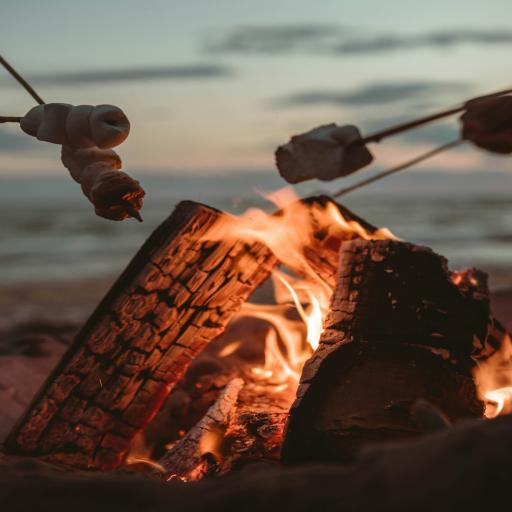campfire: (160, 128, 512, 453)
